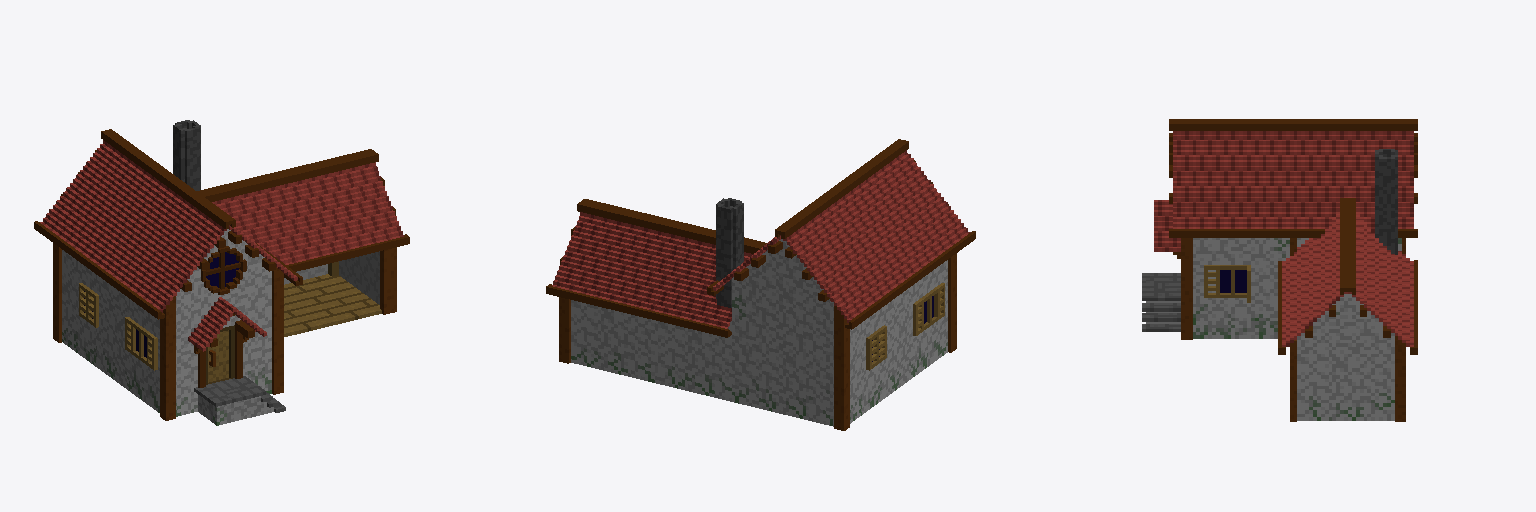
3 views of the same model, side by side, from view 1: azimuth 30°, elevation 25°; view 2: azimuth 150°, elevation 25°; view 3: azimuth 270°, elevation 25° (orthographic).
Parts seen in each view (by area): view 1: object 1; view 2: object 1; view 3: object 1.
Boxes of the visible parts, box(x1,y1,x2,y2) form: object 1: box(34, 120, 409, 425); object 1: box(546, 139, 975, 430); object 1: box(1142, 119, 1417, 421).
Bounding box in the file's own units: 9.1 × 5.4 × 7.1.
Materials: 1 (1 with a texture image).